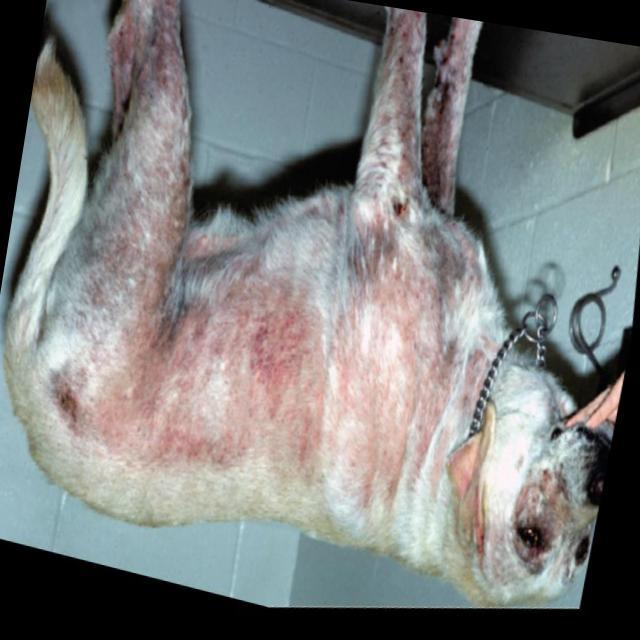allergic dermatitis: (91, 268, 320, 480), (320, 228, 453, 522)
